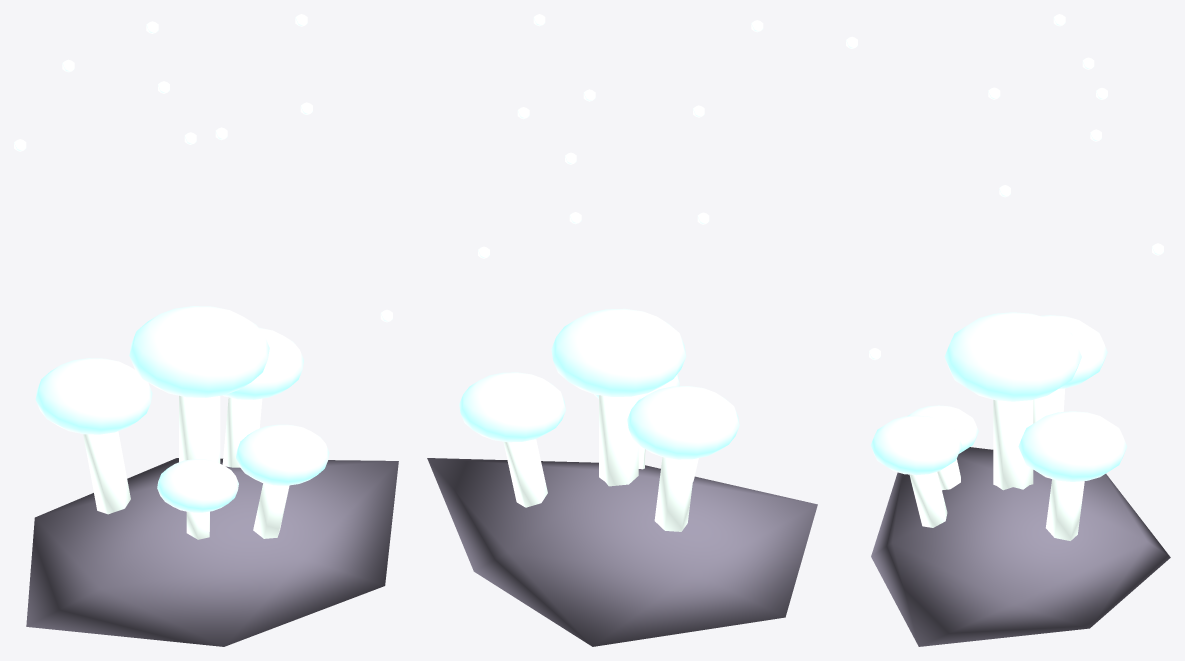
Rendered from glowcap.glb.
The picture shows the model from 3 angles, left to right: view 1: azimuth 30°, elevation 25°; view 2: azimuth 150°, elevation 25°; view 3: azimuth 270°, elevation 25°; orthographic projection. The views are drawn at different scales.
Parts seen in each view (by area): view 1: Glowcap; view 2: Glowcap; view 3: Glowcap.
Part boxes in pixels (left/top/right/bottom): Glowcap: left=14, top=14, right=398, bottom=646; Glowcap: left=427, top=14, right=817, bottom=646; Glowcap: left=846, top=14, right=1170, bottom=646.
Bounding box in the file's own units: 0.7292 × 1.1 × 0.567.
